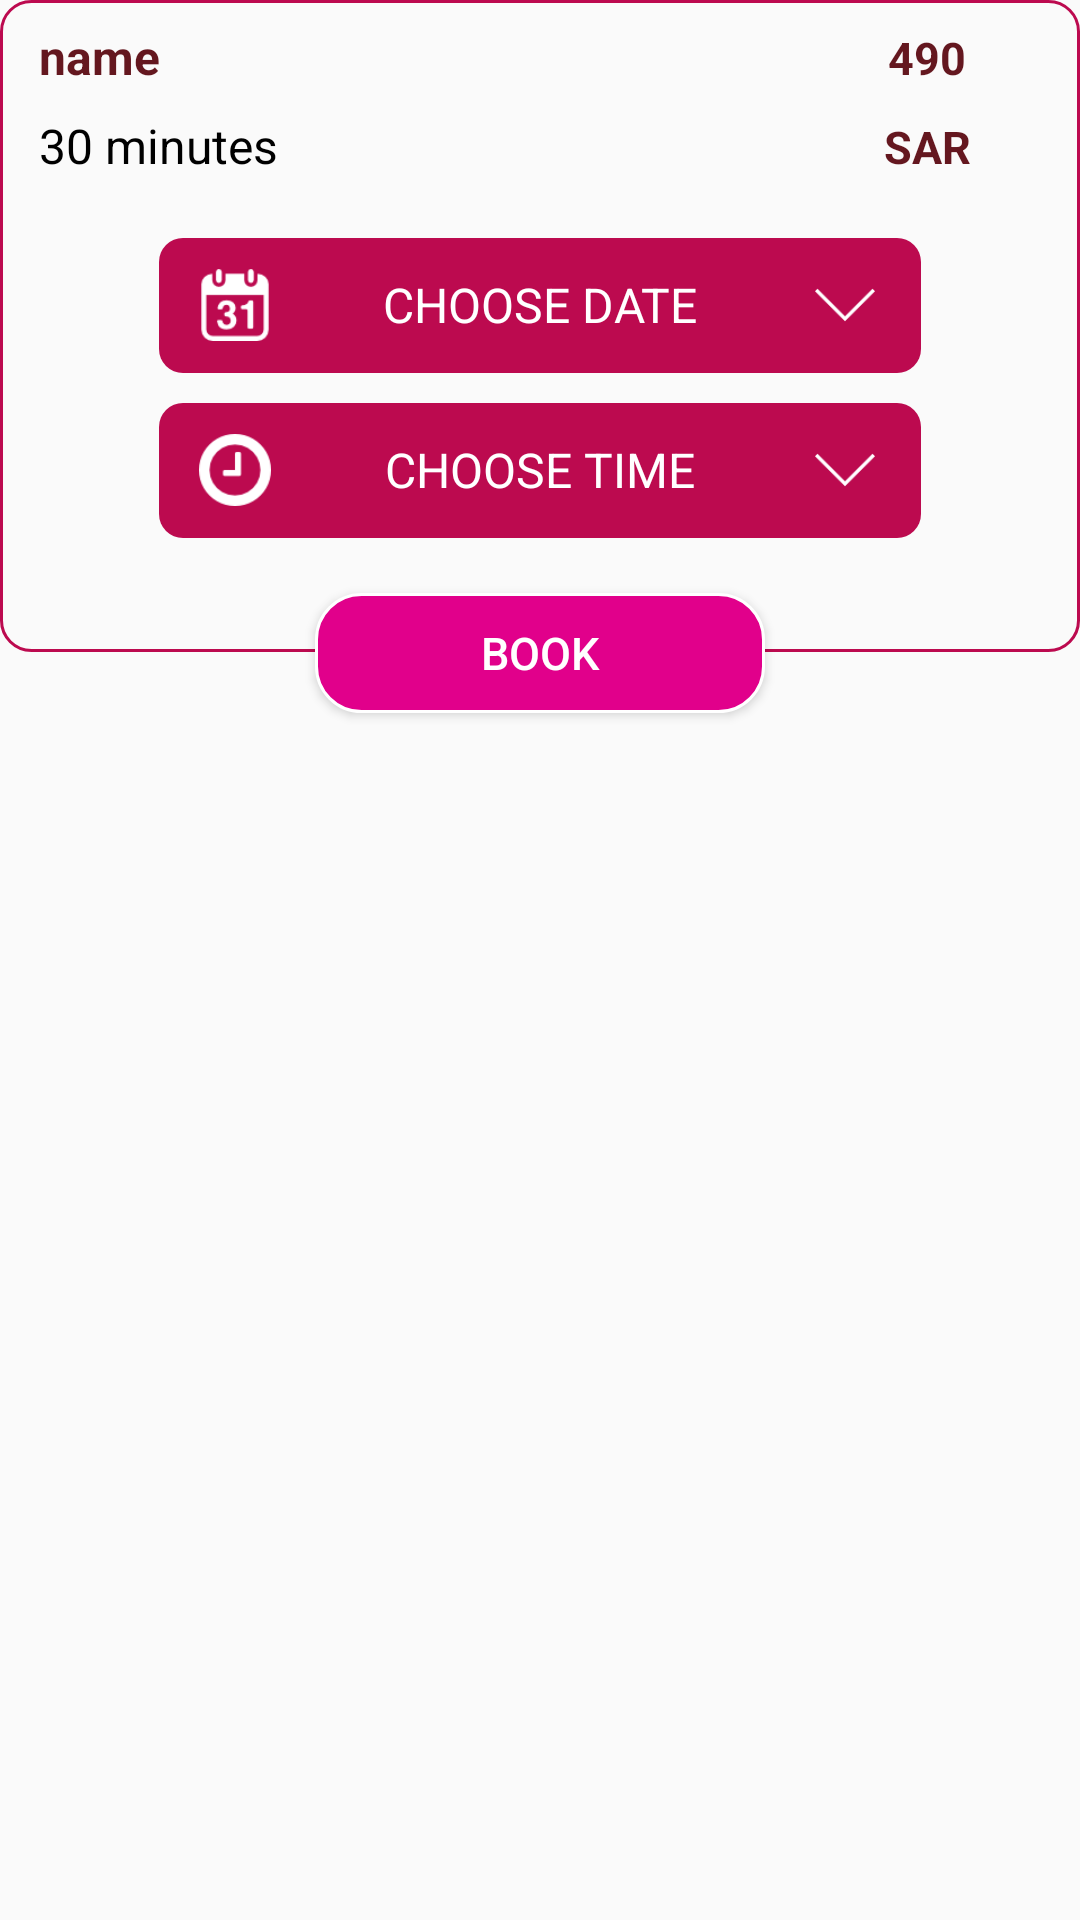

Point at icon controls on the screen. Image size 1080x1920, points as point (x, y).
botom arrow: point (845, 305), point (845, 470)
calendar: point (235, 305)
clock: point (235, 470)
